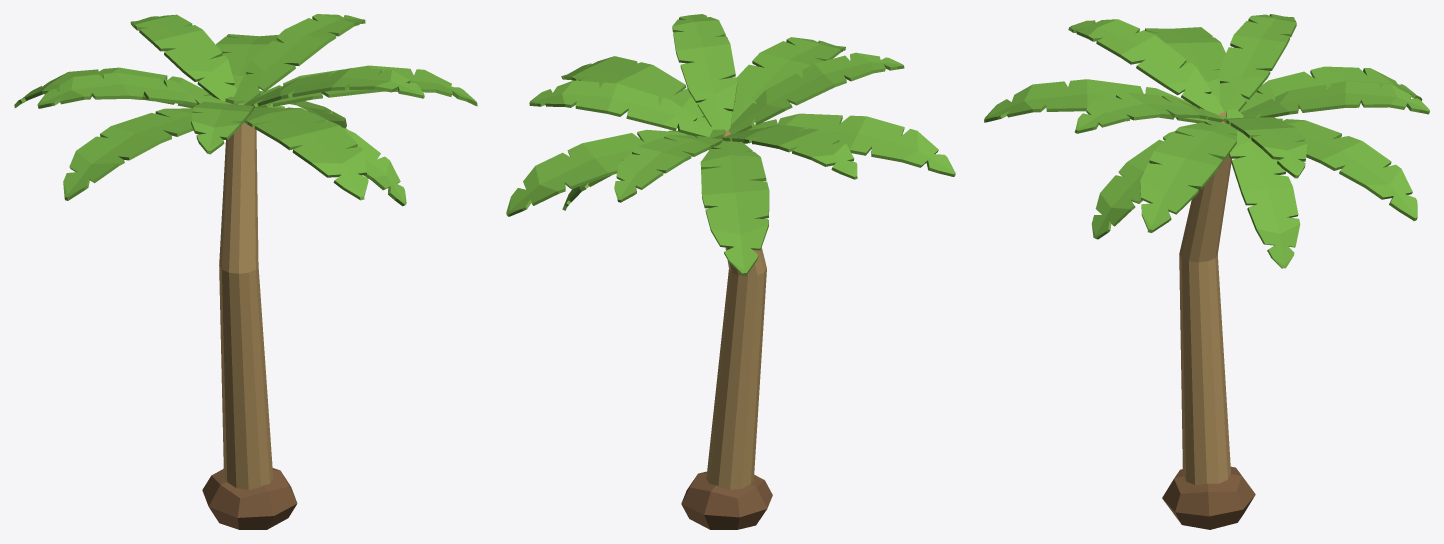
File: palm_tree.glb
3 renders of one model, left to right at view 1: azimuth 30°, elevation 25°; view 2: azimuth 150°, elevation 25°; view 3: azimuth 270°, elevation 25°, orthographic. The views are drawn at different scales.
Parts seen in each view (by area): view 1: Plane.001, Cylinder.001; view 2: Plane.001, Cylinder.001; view 3: Plane.001, Cylinder.001.
Part boxes in pixels (x1,y1,x2,y2): Plane.001: [14, 14, 477, 206]; Cylinder.001: [202, 103, 297, 529]; Plane.001: [506, 14, 955, 275]; Cylinder.001: [681, 130, 772, 529]; Plane.001: [984, 14, 1429, 268]; Cylinder.001: [1162, 112, 1255, 529].
Size of the model in its own units: 13.5 by 14.5 by 13.04.
